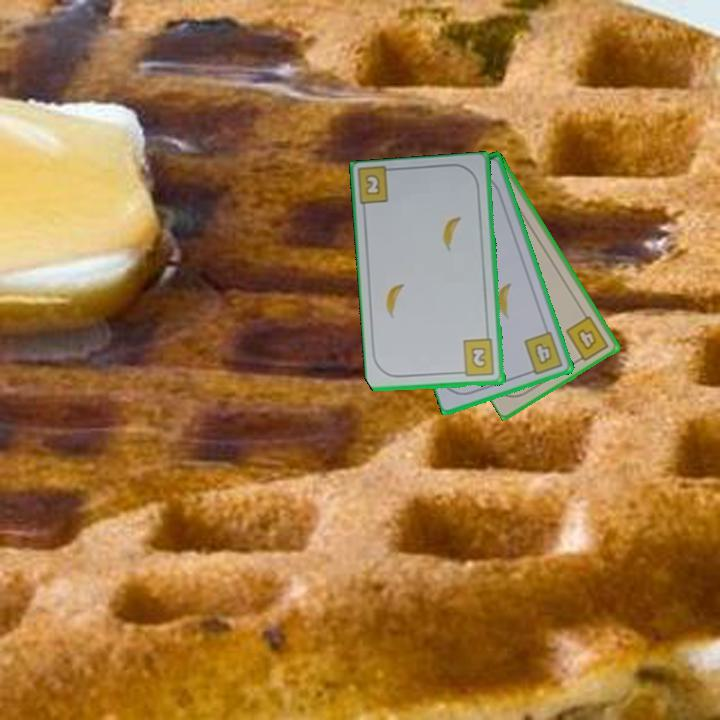2b: (456, 336, 498, 380), (361, 171, 383, 198)
4b: (562, 312, 612, 366), (521, 328, 566, 378)
